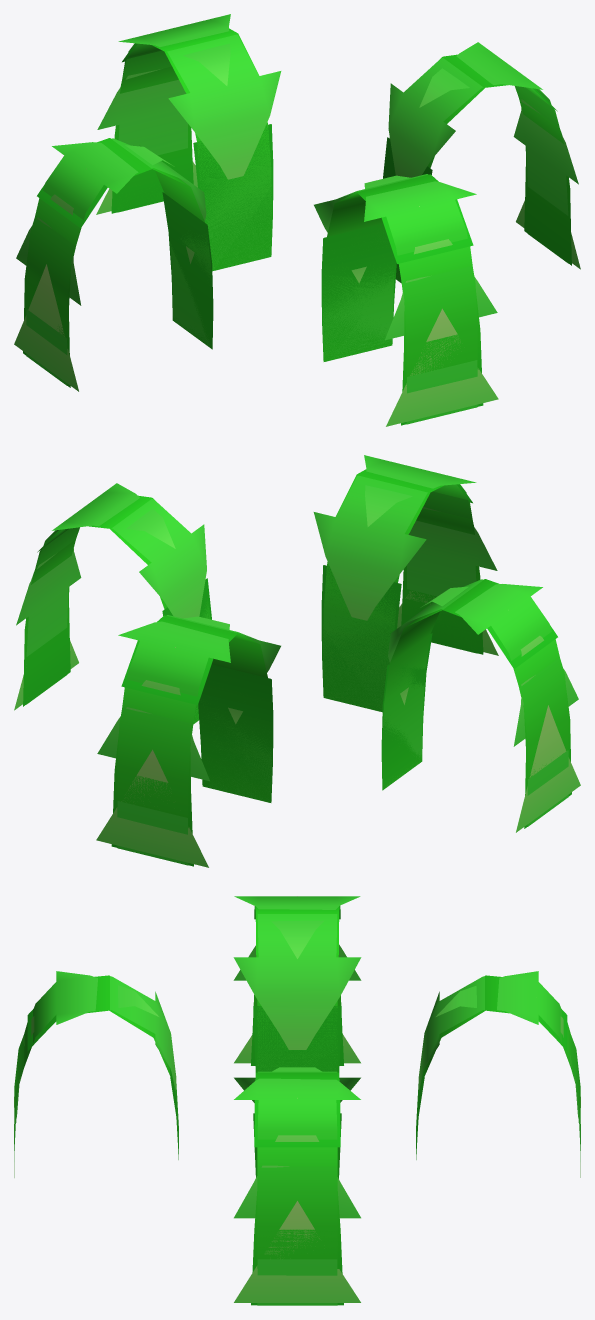
File: arrowAnimation03.fbx
3 views of the same model, one above another, from view 1: azimuth 30°, elevation 25°; view 2: azimuth 150°, elevation 25°; view 3: azimuth 270°, elevation 25° (orthographic). The views are drawn at different scales.
Parts seen in each view (by area): view 1: frame4, frame3, frame5, frame6, frame2, frame1; view 2: frame3, frame4, frame5, frame6, frame2, frame1; view 3: frame3, frame4, frame5, frame1, frame6, frame2.
Boxes of the visible parts, bbox=[...] form: frame4: bbox=[23, 34, 571, 425]; frame3: bbox=[26, 14, 562, 384]; frame5: bbox=[37, 28, 557, 361]; frame6: bbox=[162, 124, 432, 361]; frame2: bbox=[16, 28, 578, 424]; frame1: bbox=[14, 161, 580, 426]; frame3: bbox=[26, 455, 568, 827]; frame4: bbox=[23, 475, 571, 866]; frame5: bbox=[37, 469, 557, 802]; frame6: bbox=[162, 565, 432, 802]; frame2: bbox=[16, 469, 578, 865]; frame1: bbox=[14, 591, 580, 867]; frame3: bbox=[14, 896, 580, 1268]; frame4: bbox=[14, 914, 580, 1305]; frame5: bbox=[27, 906, 567, 1151]; frame1: bbox=[14, 1034, 580, 1302]; frame6: bbox=[170, 1006, 424, 1178]; frame2: bbox=[14, 896, 580, 1305].
Bounding box in the file's own units: 0.0266 × 0.00998 × 0.0266.
